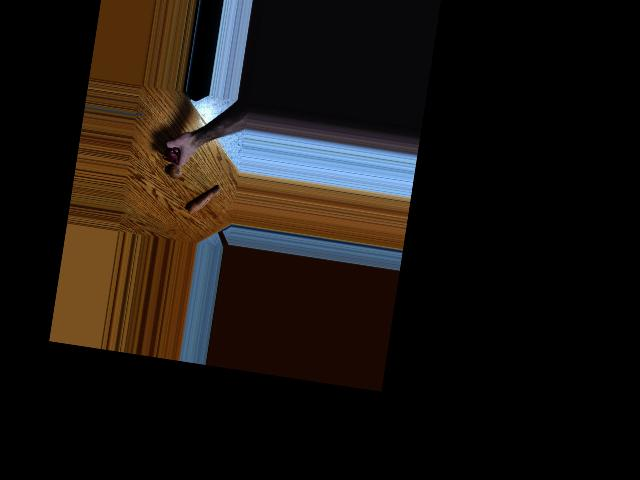onion: (166, 161, 184, 181)
